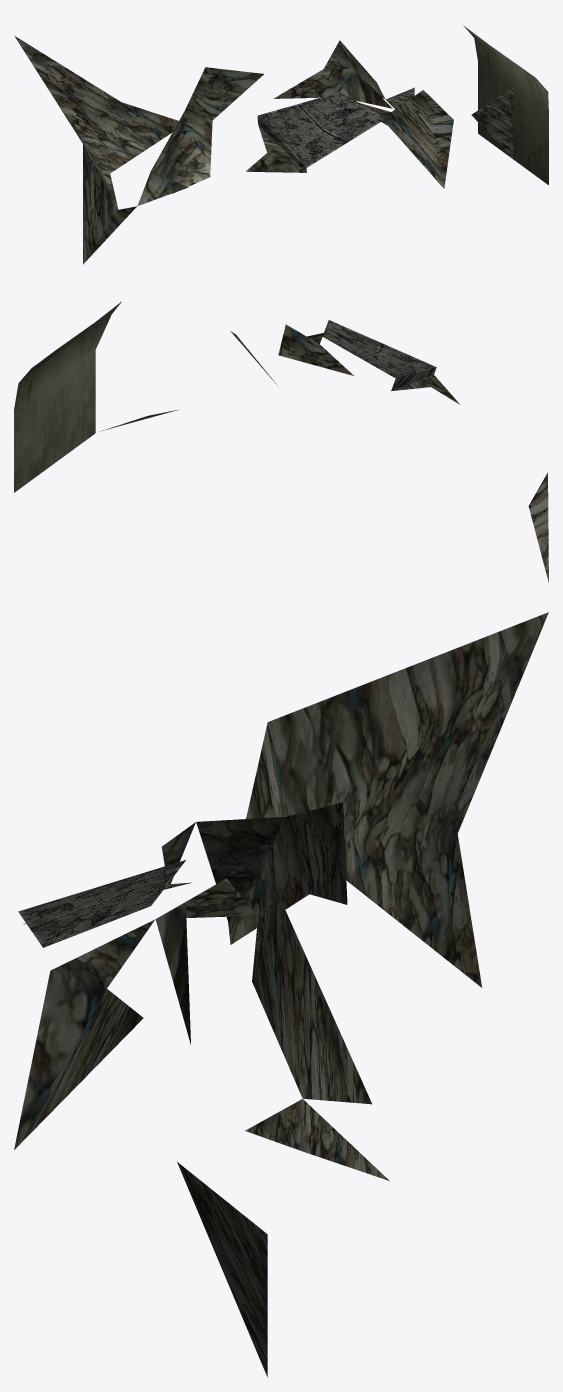
Rendered from M10_Z01_13_BombSiteA.glb.
The picture shows the model from 3 angles, top to bottom: view 1: azimuth 30°, elevation 25°; view 2: azimuth 150°, elevation 25°; view 3: azimuth 270°, elevation 25°; orthographic projection. The views are drawn at different scales.
Visible parts, largest first — view 1: M10_Z01_13_BOMBSITEA; view 2: M10_Z01_13_BOMBSITEA; view 3: M10_Z01_13_BOMBSITEA.
Part boxes in pixels (bbox=[...]): M10_Z01_13_BOMBSITEA: bbox=[14, 25, 548, 264]; M10_Z01_13_BOMBSITEA: bbox=[14, 301, 548, 582]; M10_Z01_13_BOMBSITEA: bbox=[14, 612, 548, 1377].
Bounding box in the file's own units: 28 × 11 × 15.19.
Materials: 3 (3 with a texture image).
